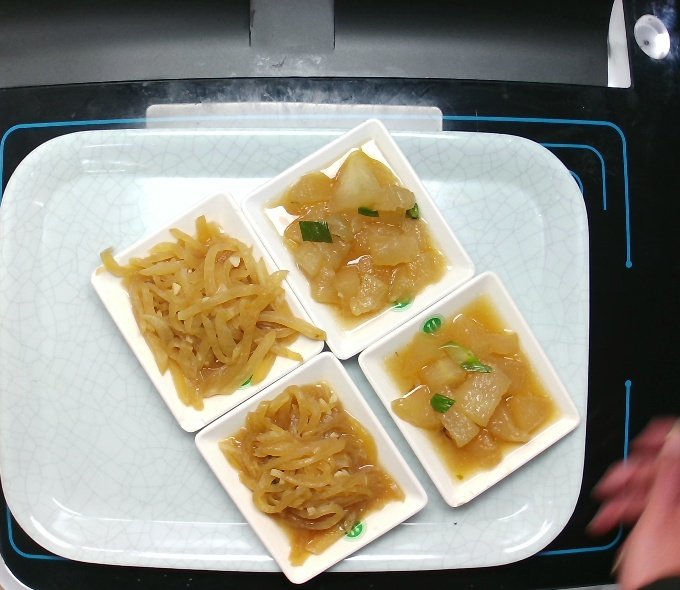wcq-DongGua: (263, 136, 457, 331), (373, 289, 567, 484)
wcq-LuoBoSi: (96, 213, 325, 416), (215, 375, 404, 571)
